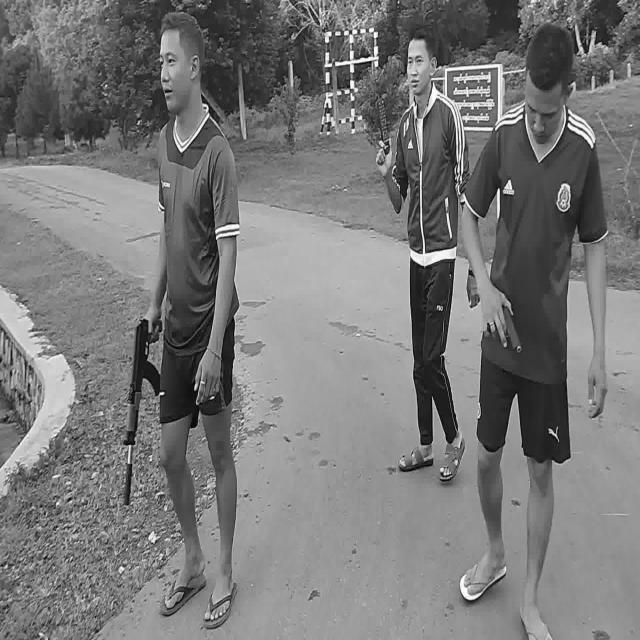gun: (124, 320, 162, 501), (487, 306, 521, 351)
